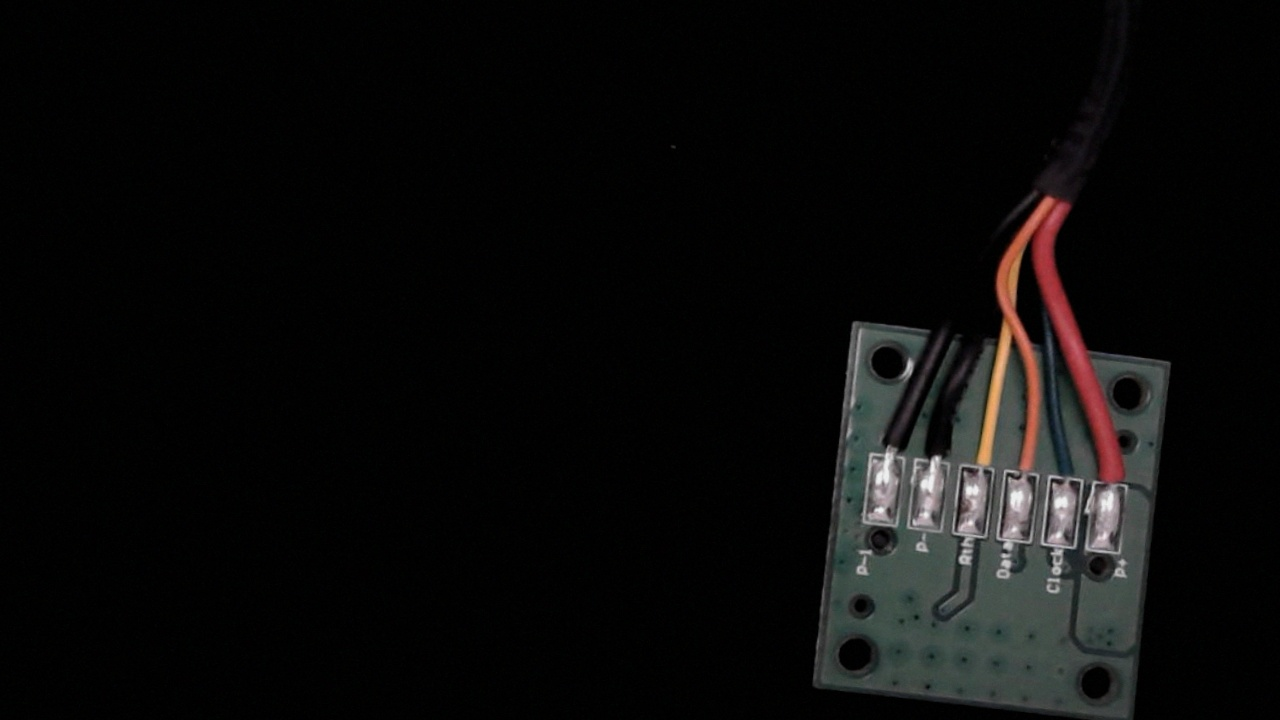Black: (909, 405, 962, 491)
Black1: (865, 404, 916, 483)
Green: (1043, 422, 1096, 505)
Orange: (1000, 418, 1051, 502)
Red: (1088, 427, 1141, 510)
Yellow: (958, 409, 1011, 496)
